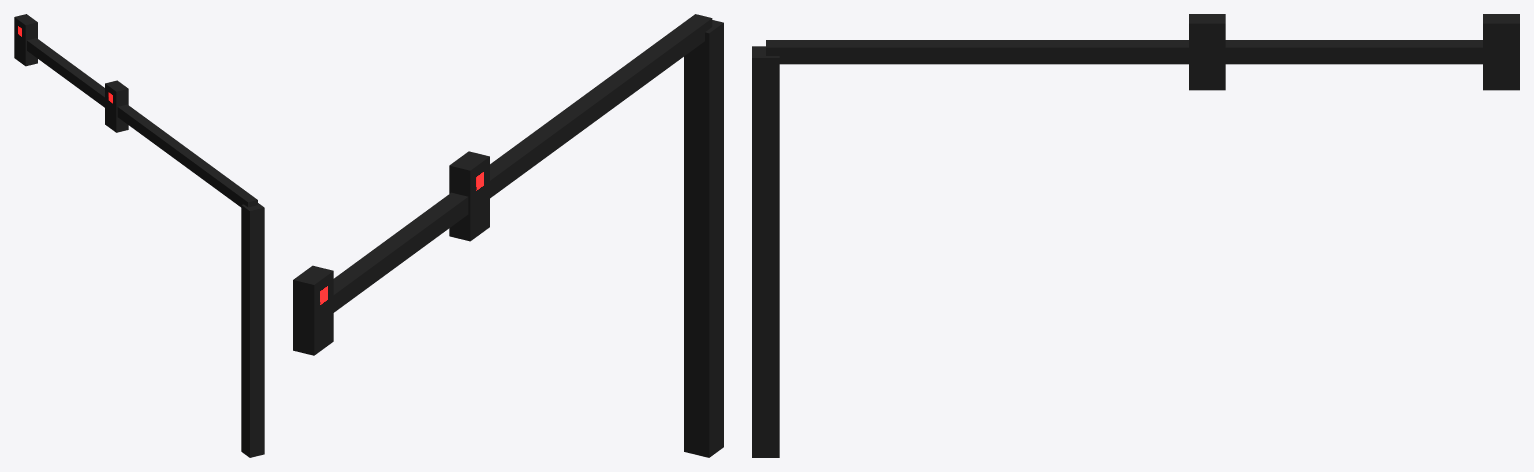
3 views of the same model, side by side, from view 1: azimuth 30°, elevation 25°; view 2: azimuth 150°, elevation 25°; view 3: azimuth 270°, elevation 25° (orthographic). The views are drawn at different scales.
Visible parts, largest first — view 1: objects/object_1; view 2: objects/object_1; view 3: objects/object_1.
Boxes of the visible parts, <box> form: objects/object_1: <box>14,14,264,457</box>; objects/object_1: <box>293,14,723,457</box>; objects/object_1: <box>752,14,1519,457</box>.
Size of the model in its own units: 0.375 by 6.5 by 10.44.
Materials: 2 (2 with a texture image).
